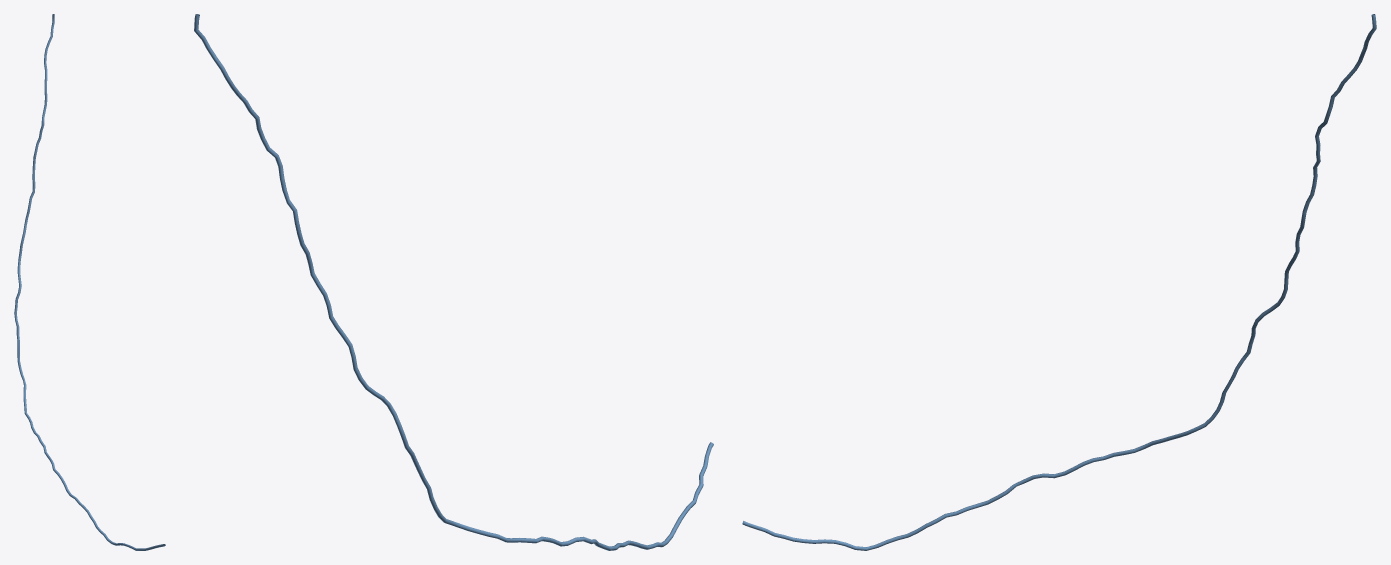
Rendered from sweep200.fbx.
3 renders of one model, left to right at view 1: azimuth 30°, elevation 25°; view 2: azimuth 150°, elevation 25°; view 3: azimuth 270°, elevation 25°, orthographic. The views are drawn at different scales.
Visible parts, largest first — view 1: sweep200; view 2: sweep200; view 3: sweep200.
Boxes of the visible parts, bbox=[...] form: sweep200: bbox=[14, 14, 165, 550]; sweep200: bbox=[194, 14, 713, 550]; sweep200: bbox=[742, 14, 1376, 550].
Bounding box in the file's own units: 1 × 3.32 × 3.1.
